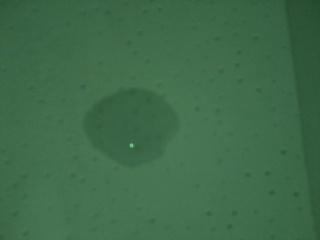Water_detected: (94, 96, 161, 158)
